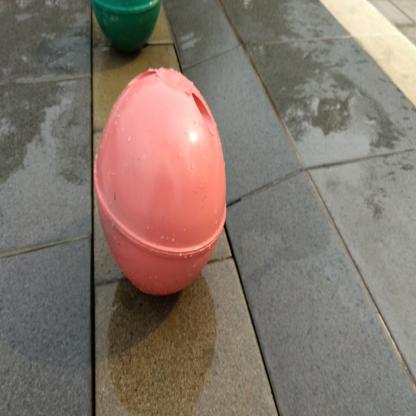red_buoy: (82, 57, 232, 307)
